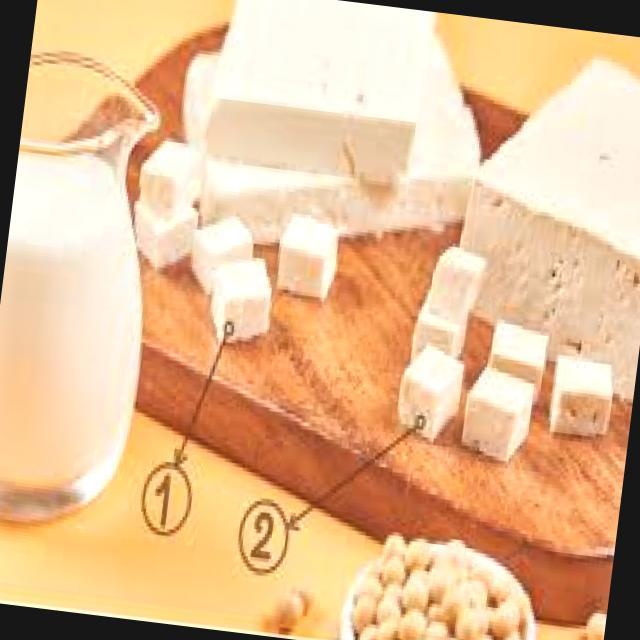tof: (374, 233, 640, 499), (124, 113, 366, 364)
